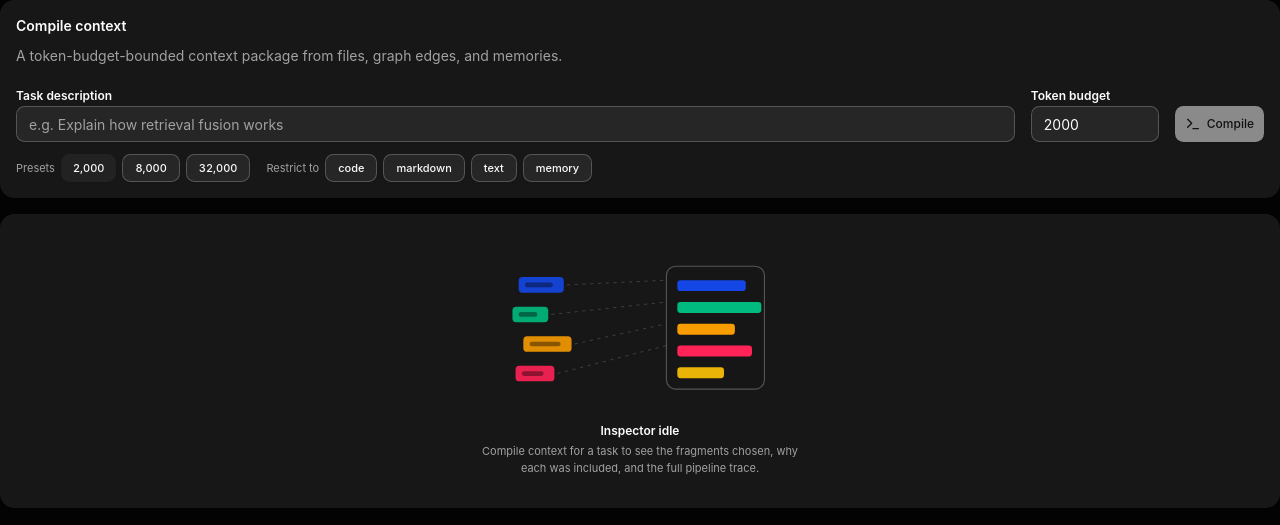
Test case: InspectorView › does not remember a task whose compile failed
This screenshot has width=1280, height=525.
In the field labelled "Task description": {"x": 515, "y": 124} [16, 106, 1015, 142], type "doomed task"
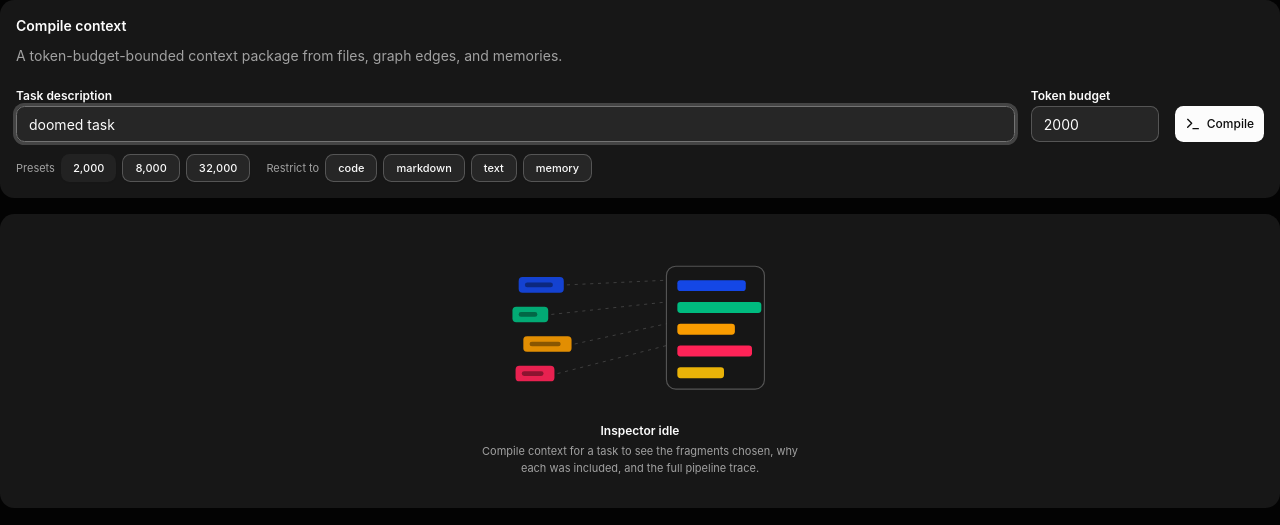
Click the button "Compile": {"x": 1219, "y": 124} [1175, 106, 1264, 142]
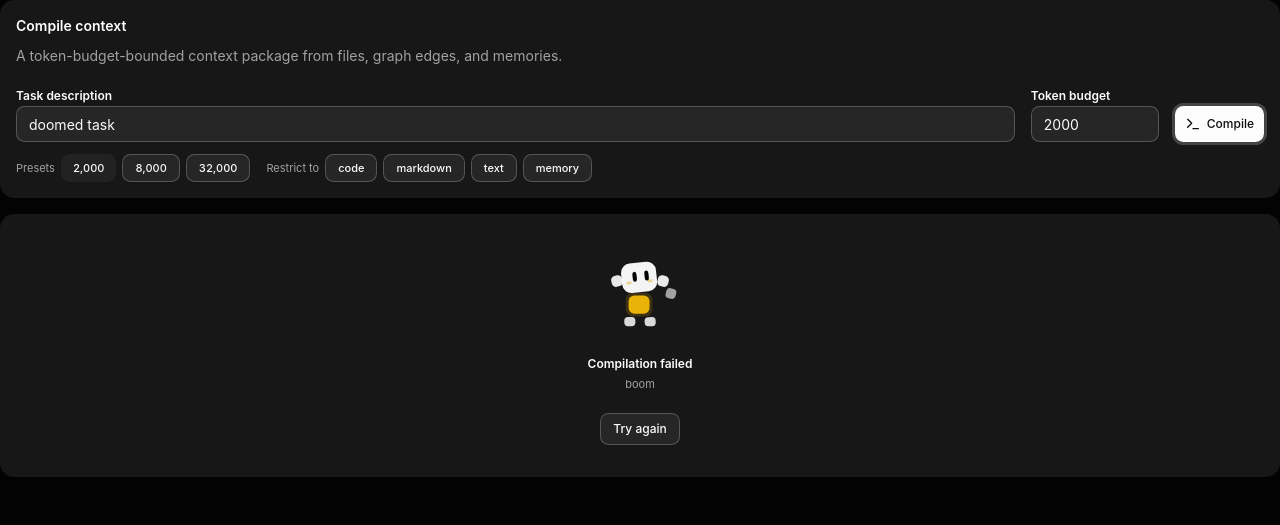
Now the text "Compilation failed" is shown, box [588, 356, 692, 372]
